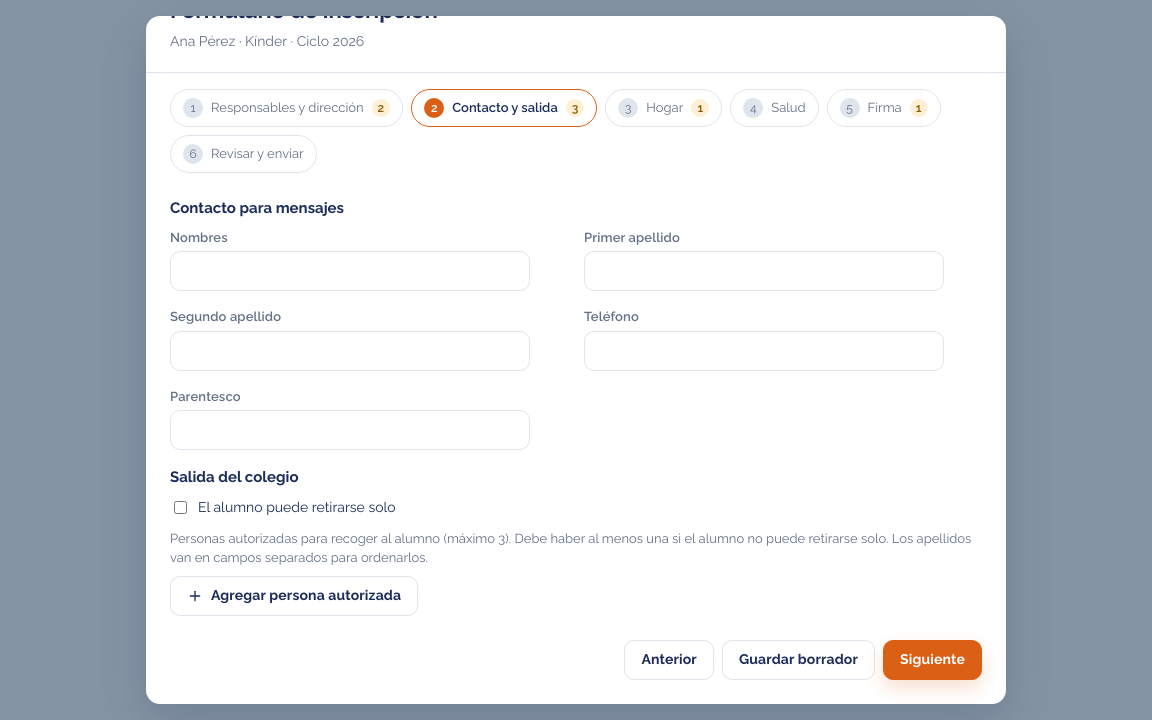
formulario de inscripción por pasos › Siguiente guarda el paso y avanza
(page scrolled)
Click the button "Siguiente". click: coordinates (932, 660)
box: [883,640,982,680]
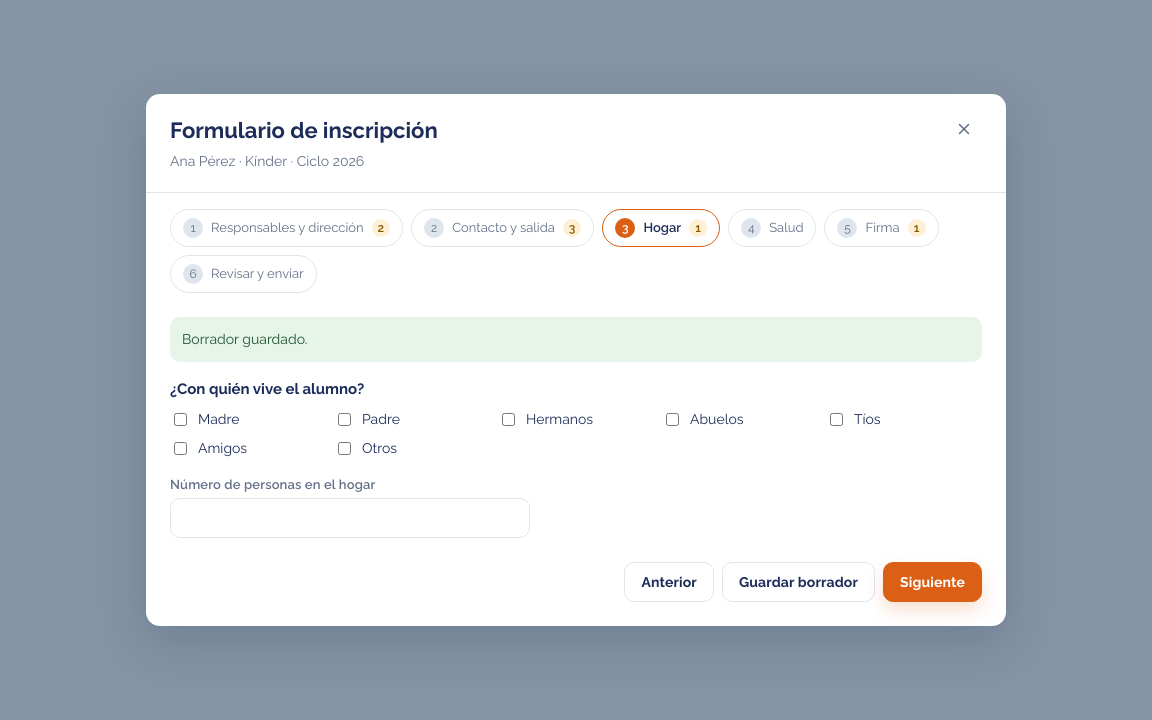
Result: the heading "¿Con quién vive el alumno?" is shown at [170,380,364,398]
